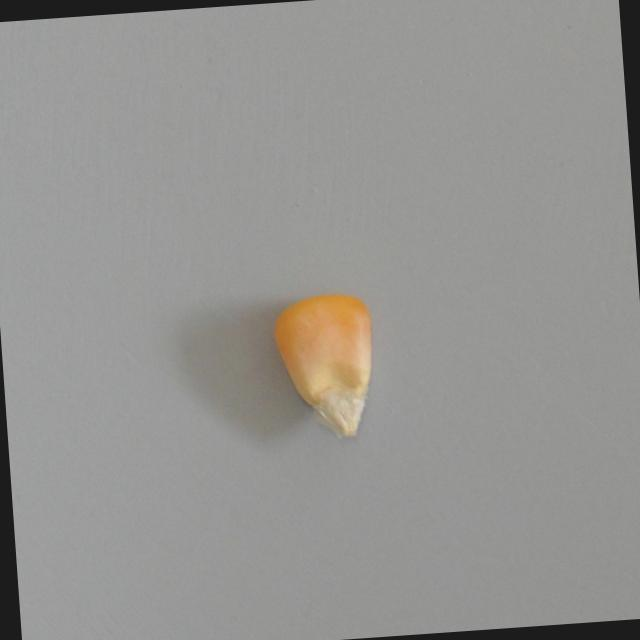entero: (265, 289, 383, 447)
